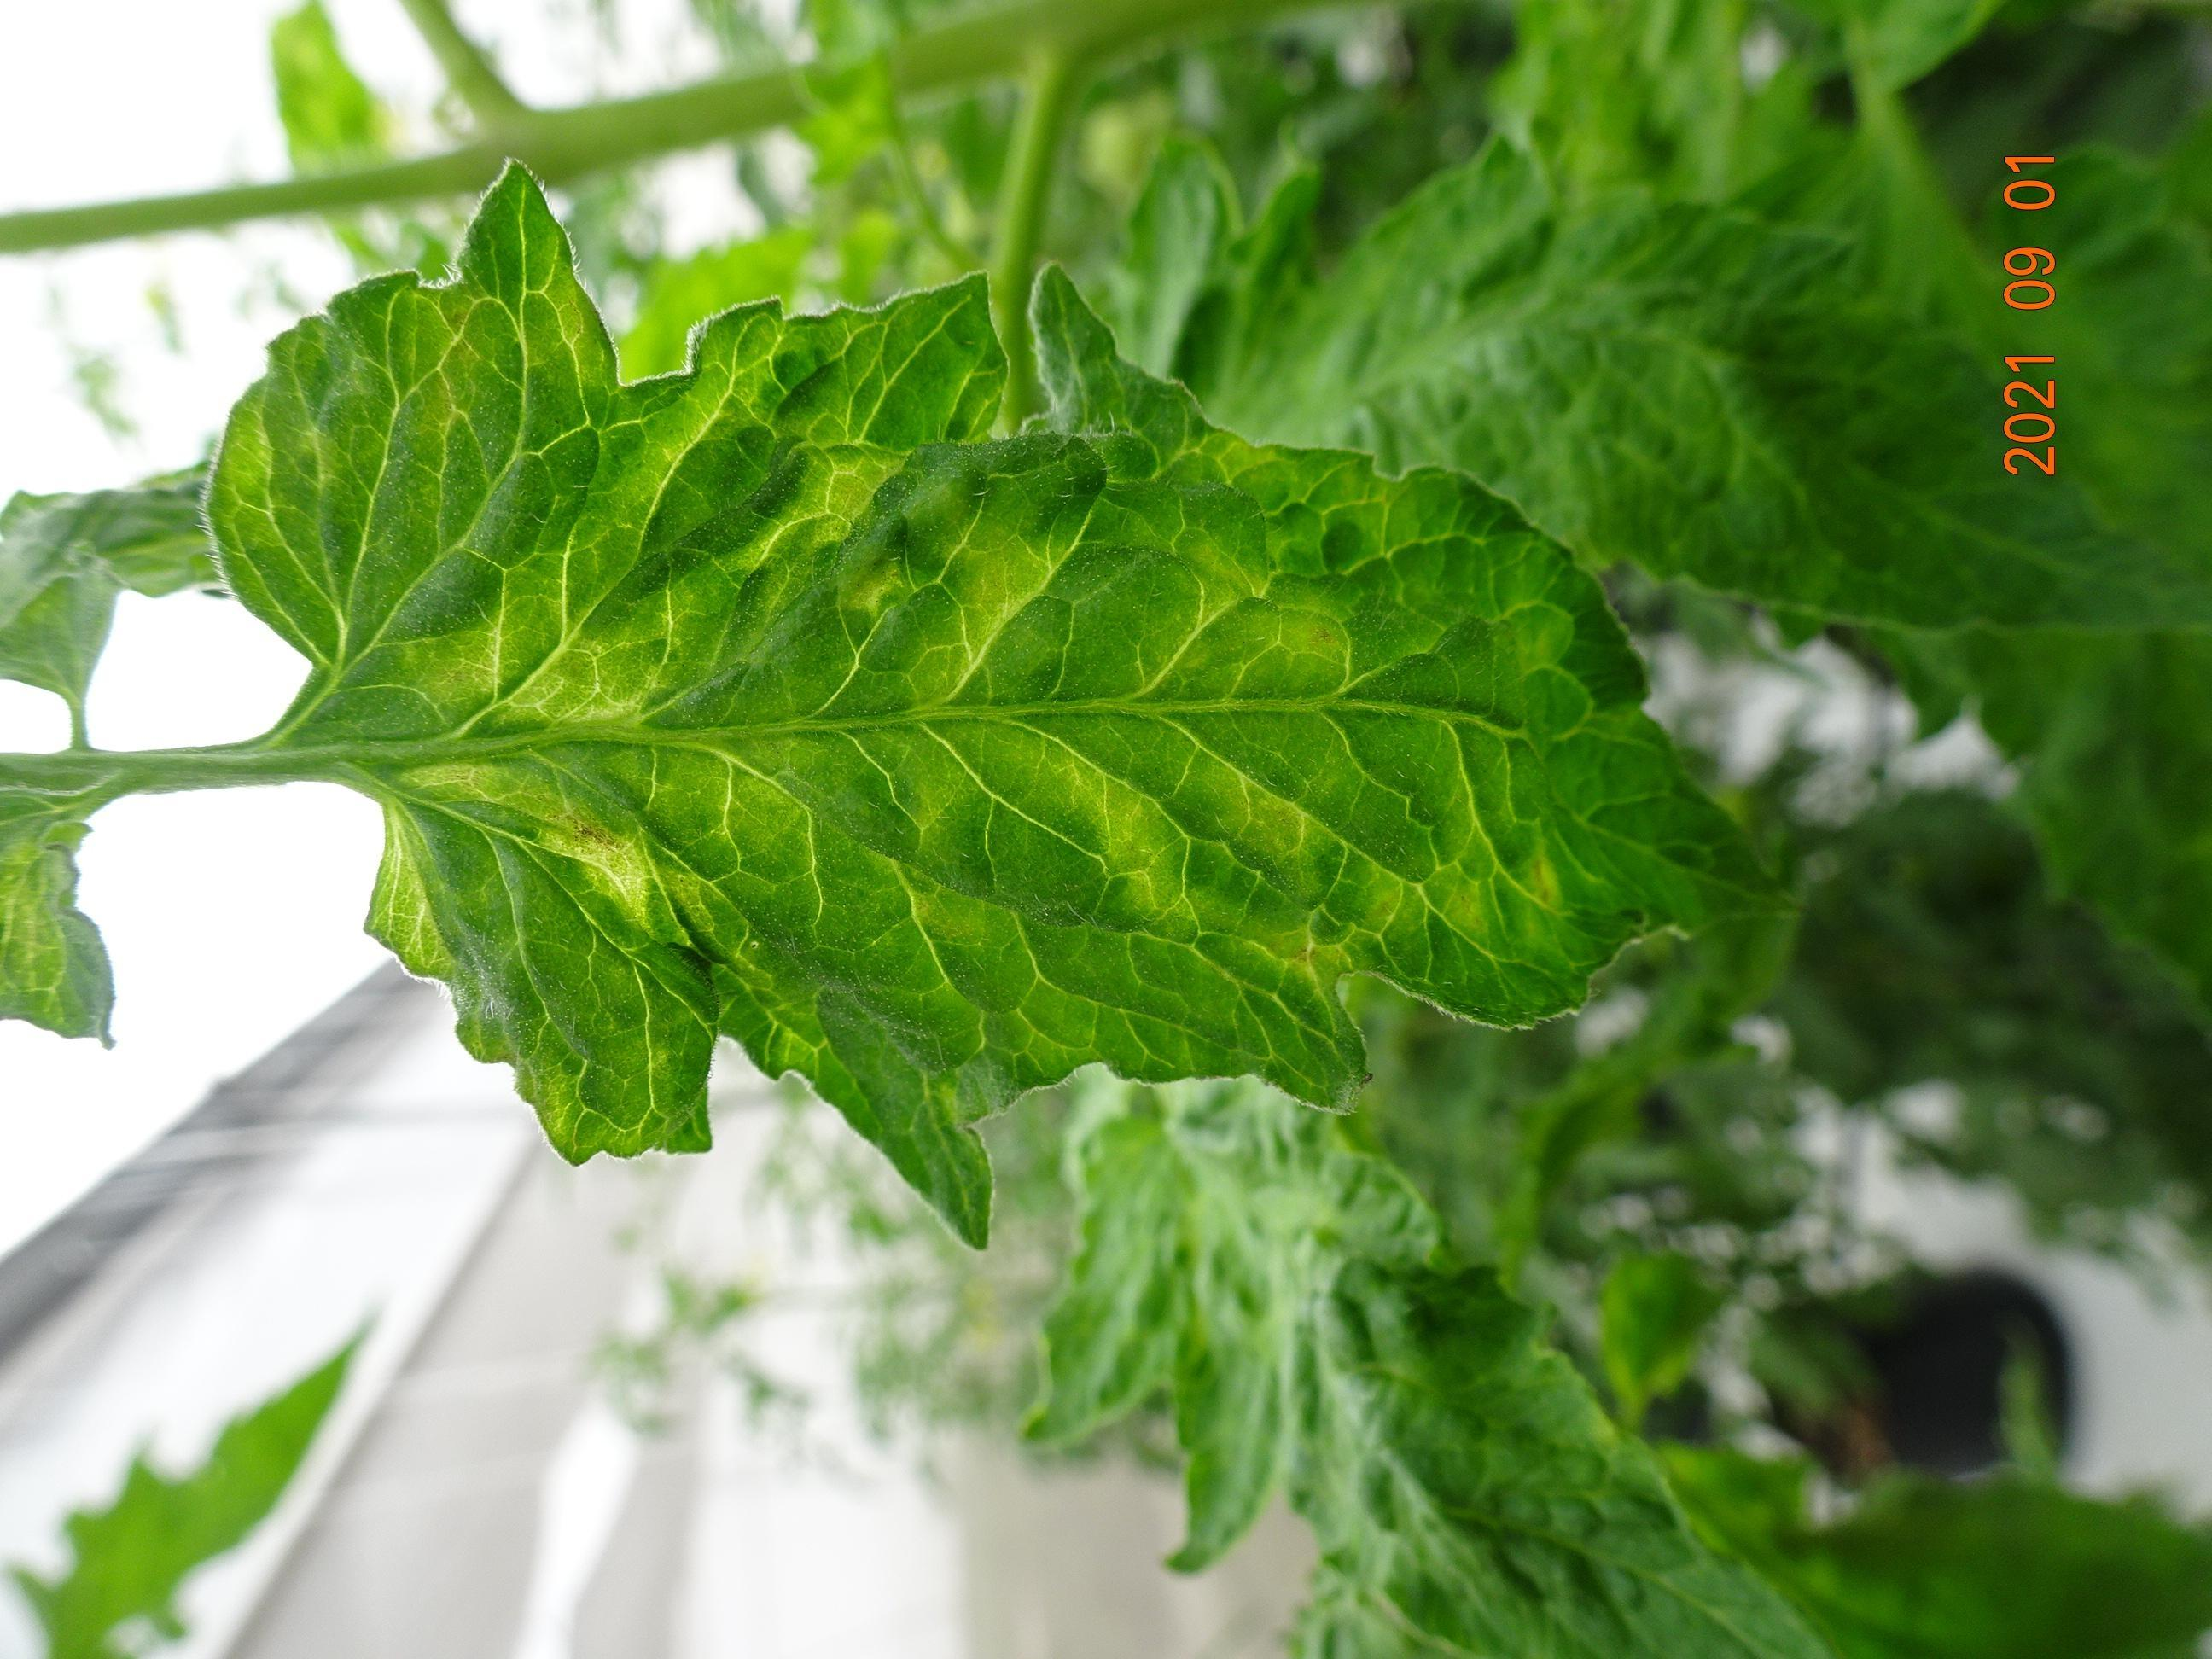Rugose leaf: (376, 277, 1759, 1236), (207, 173, 618, 742)
